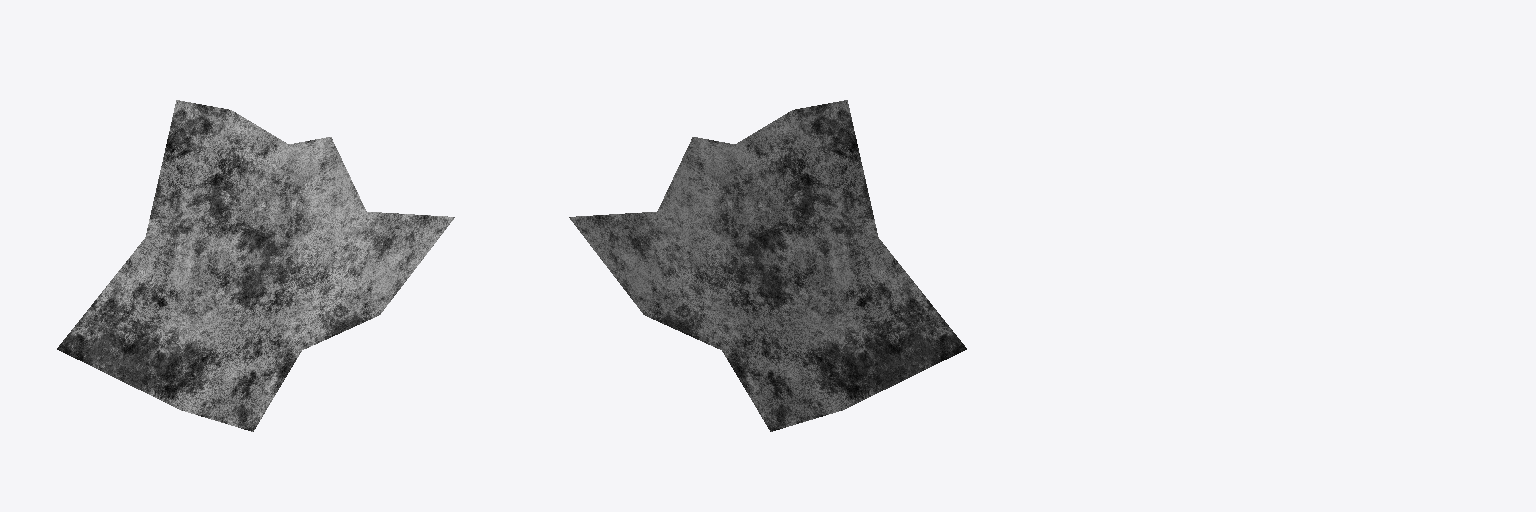
3 views of the same model, side by side, from view 1: azimuth 30°, elevation 25°; view 2: azimuth 150°, elevation 25°; view 3: azimuth 270°, elevation 25° (orthographic).
Visible parts, largest first — view 1: Plane; view 2: Plane; view 3: none.
Boxes of the visible parts, <box> form: Plane: <box>57,100,454,431</box>; Plane: <box>569,100,966,431</box>.
Size of the model in its own units: 1.85 by 1.56 by 0.
1 materials, 1 textured.